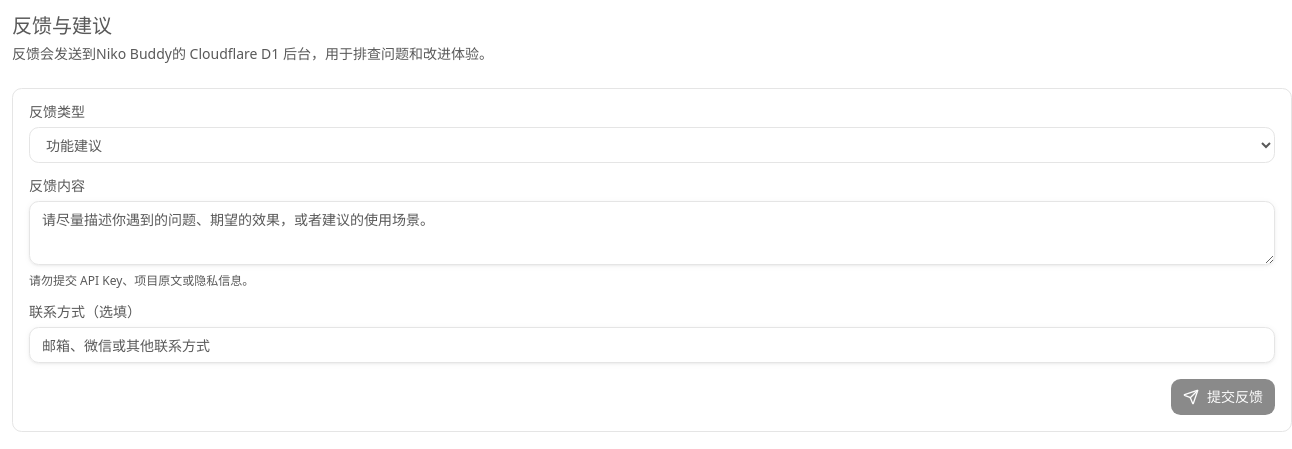
Test: FeedbackSection › submits successfully: clears message/contact and shows the thanks status
In the text box labelled "反馈内容": (652, 233) x1=29 y1=201 x2=1275 y2=265, type "  nice tool  "
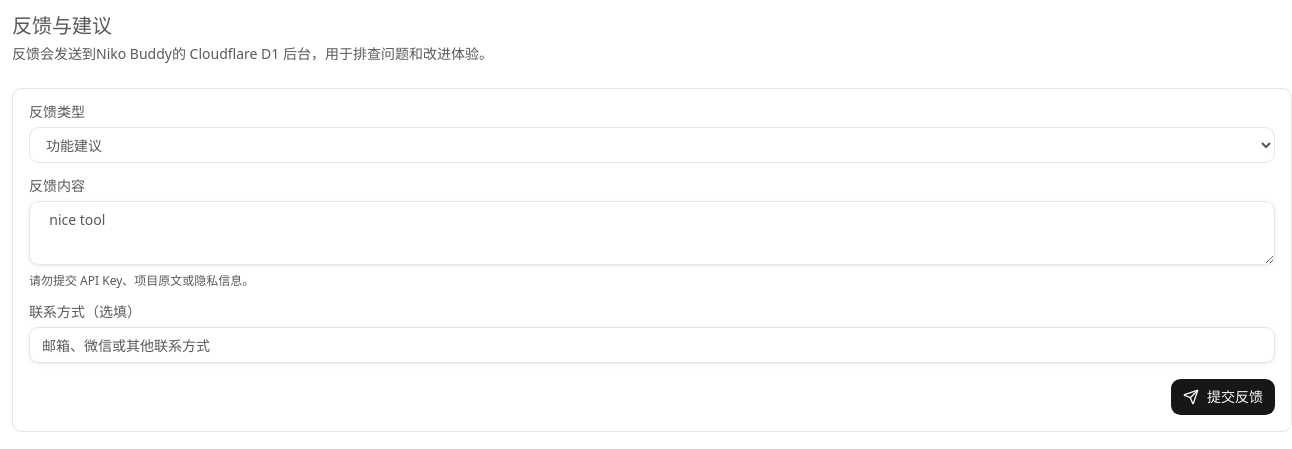
In the field labelled "联系方式（选填）": (652, 345) x1=29 y1=327 x2=1275 y2=363, type "me@x.com"
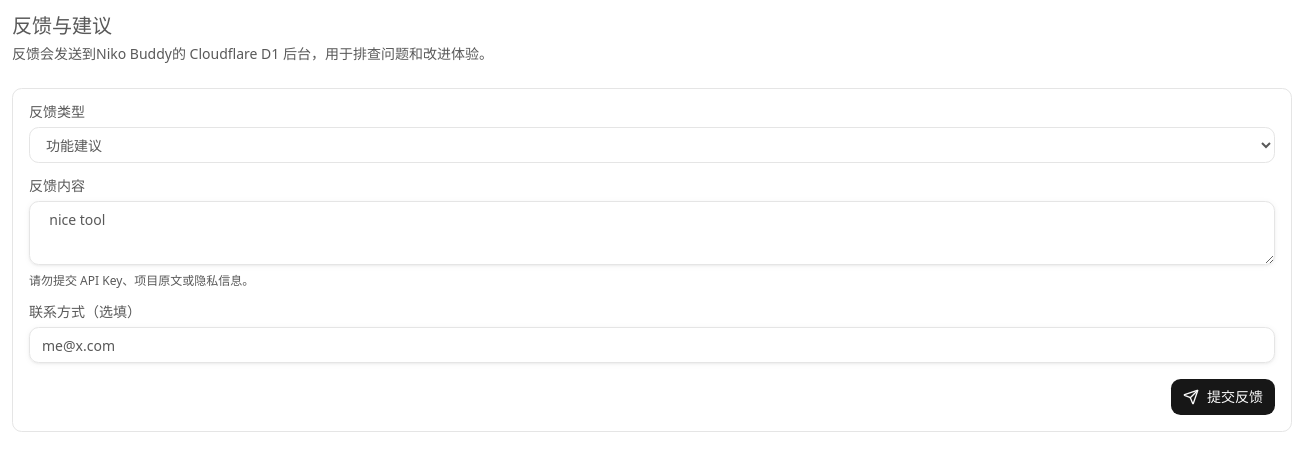
Click the button "提交反馈": (1223, 397) x1=1171 y1=379 x2=1275 y2=415
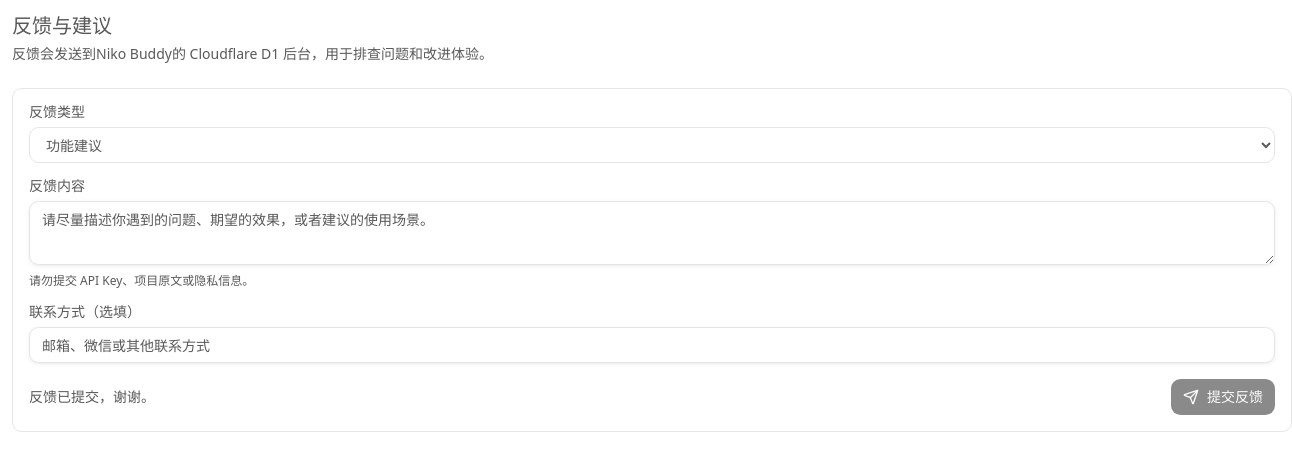
Expected: the text "反馈已提交，谢谢。" is shown, x1=29 y1=387 x2=155 y2=407
Expected: the text box labelled "反馈内容" is empty, x1=29 y1=201 x2=1275 y2=265
Expected: the field labelled "联系方式（选填）" is empty, x1=29 y1=327 x2=1275 y2=363
